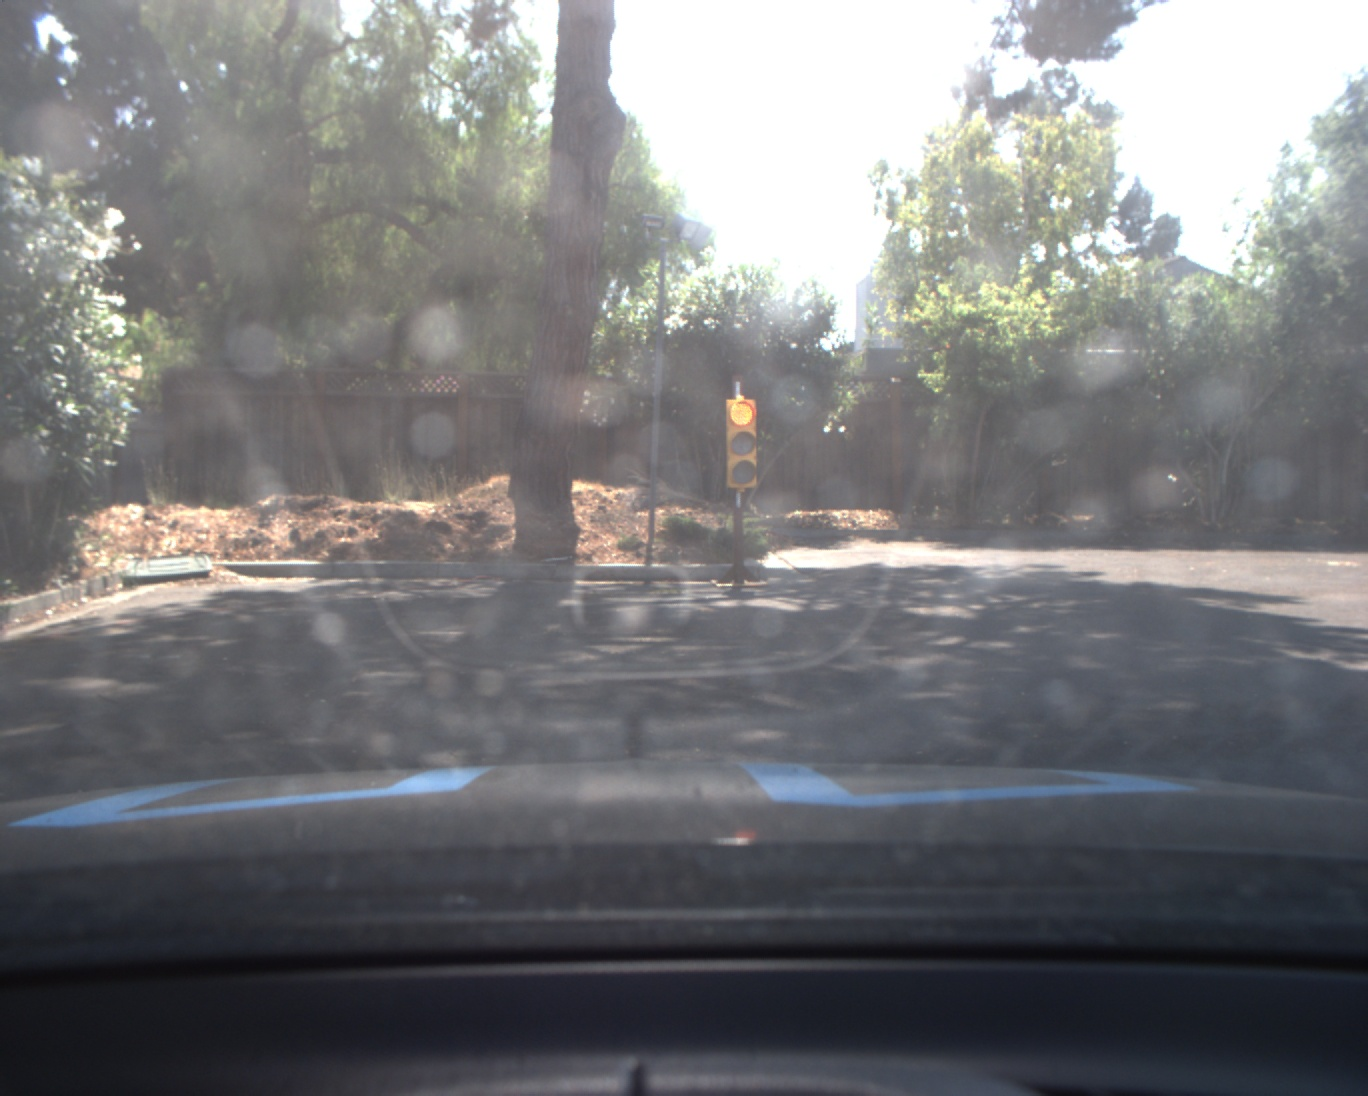red: (726, 398, 757, 486)
